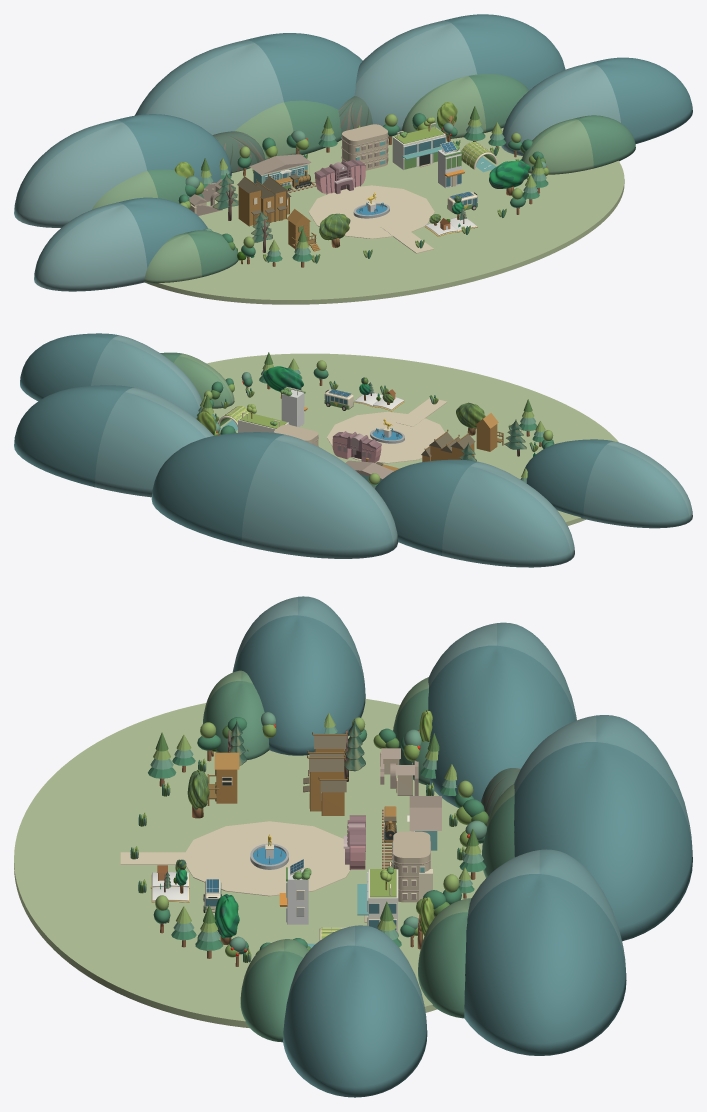
The model's file is chiayi-v5.glb.
3 renders of one model, top to bottom at view 1: azimuth 30°, elevation 25°; view 2: azimuth 150°, elevation 25°; view 3: azimuth 270°, elevation 25°, orthographic. The views are drawn at different scales.
Visible parts, largest first — view 1: Town ground ellipse, hill_teal.002, hill_teal.001, hill_teal.003, hill_teal.005, hill_teal.004, hill_green.005, hill_green.003, Drawing dance plaza, hill_green.004, hill_green.002, hill_green.001 (+14 smaller); view 2: hill_teal.002, Town ground ellipse, hill_teal.001, hill_teal.003, hill_teal.004, hill_teal.005, Drawing dance plaza, hill_green.005, 01_traditional_house, 04_solar_townhouse, 05_rooftop_garden_building, 06_wooden_hut (+8 smaller); view 3: Town ground ellipse, hill_teal.003, hill_teal.002, hill_teal.005, hill_teal.001, hill_teal.004, Drawing dance plaza, hill_green.003, hill_green.005, hill_green.004, 01_traditional_house, 07_curved_apartment (+13 smaller).
Part boxes in pixels (x1,y1,x2,y2): Town ground ellipse: (145,128,624,304); hill_teal.002: (135,33,362,134); hill_teal.001: (14,114,231,227); hill_teal.003: (354,14,565,133); hill_teal.005: (501,57,692,155); hill_teal.004: (34,197,207,291); hill_green.005: (522,115,635,174); hill_green.003: (402,74,529,138); Drawing dance plaza: (308,185,434,238); hill_green.004: (144,230,238,283); hill_green.002: (235,100,341,159); hill_green.001: (92,169,203,209); hill_teal.002: (151,432,398,558); Town ground ellipse: (206,353,618,525); hill_teal.001: (375,459,574,567); hill_teal.003: (14,385,213,497); hill_teal.004: (523,439,692,528); hill_teal.005: (20,333,201,418); Drawing dance plaza: (327,411,444,463); hill_green.005: (160,352,234,408); 01_traditional_house: (421,429,475,461); 04_solar_townhouse: (280,387,307,426); 05_rooftop_garden_building: (238,404,289,432); 06_wooden_hut: (475,413,503,451); Town ground ellipse: (14,699,485,1028); hill_teal.003: (464,849,626,1055); hill_teal.002: (514,715,692,941); hill_teal.005: (283,925,427,1097); hill_teal.001: (428,622,576,807); hill_teal.004: (232,596,365,755); Drawing dance plaza: (186,821,350,896); hill_green.003: (418,898,471,1018); hill_green.005: (240,939,308,1042); hill_green.004: (203,670,269,759); 01_traditional_house: (303,732,348,815); 07_curved_apartment: (392,831,432,902).
Bounding box in the file's own units: 76.3 × 9.6 × 47.8.
144 materials, 7 textured.
